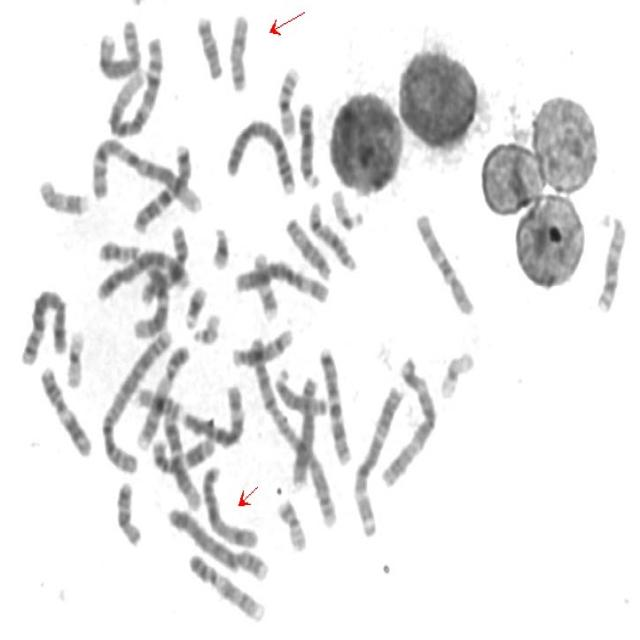A1: (88, 133, 203, 215), (104, 29, 166, 139)
A2: (246, 326, 340, 531), (96, 322, 174, 477)
A3: (349, 380, 407, 539), (376, 352, 439, 489)
B4: (163, 501, 271, 584), (222, 112, 298, 197)
B5: (94, 242, 191, 304), (17, 282, 70, 368)
C10: (411, 207, 478, 317), (137, 219, 190, 308)
C11: (35, 360, 95, 460), (148, 430, 217, 476)
C12: (159, 402, 204, 512), (130, 259, 170, 341)
C6: (230, 256, 332, 306), (176, 378, 246, 449)
C7: (129, 137, 193, 235), (314, 341, 354, 466)
C8: (594, 215, 633, 315), (95, 14, 143, 82)
C9: (132, 338, 193, 452), (185, 548, 268, 624)
D13: (288, 370, 320, 491), (294, 96, 323, 190)
D14: (306, 196, 359, 274), (228, 322, 296, 368)
D15: (282, 212, 334, 281), (271, 364, 330, 418)
E16: (129, 382, 186, 430), (274, 61, 302, 140)
E17: (35, 173, 92, 218), (250, 247, 281, 322)
E18: (193, 9, 225, 82), (112, 476, 144, 548)
F19: (436, 344, 478, 402), (62, 324, 88, 389)
F20: (274, 492, 309, 554), (94, 235, 143, 265)
G21: (181, 280, 209, 331), (208, 220, 232, 272)
G22: (327, 184, 366, 231), (189, 308, 222, 347)
X: (198, 460, 260, 550), (226, 13, 252, 95)
